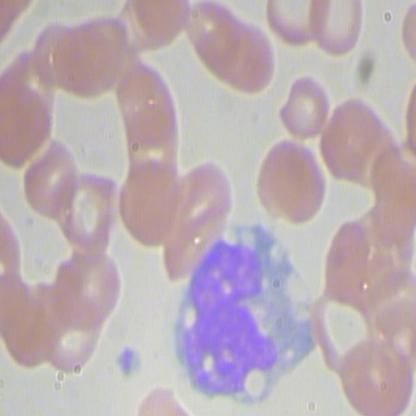Platelets: (113, 341, 141, 382)
RBC: (116, 153, 186, 248), (339, 328, 414, 416), (54, 14, 123, 101), (57, 240, 122, 330), (319, 98, 384, 186), (268, 144, 330, 230), (21, 137, 80, 224), (40, 296, 102, 377), (322, 212, 376, 298), (321, 210, 375, 296), (222, 22, 279, 95), (280, 71, 334, 140), (308, 1, 363, 61), (264, 1, 321, 52)
WBC: (168, 225, 320, 402)
